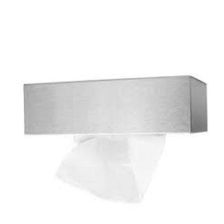book: (16, 70, 212, 142)
tissue: (47, 127, 173, 210)
